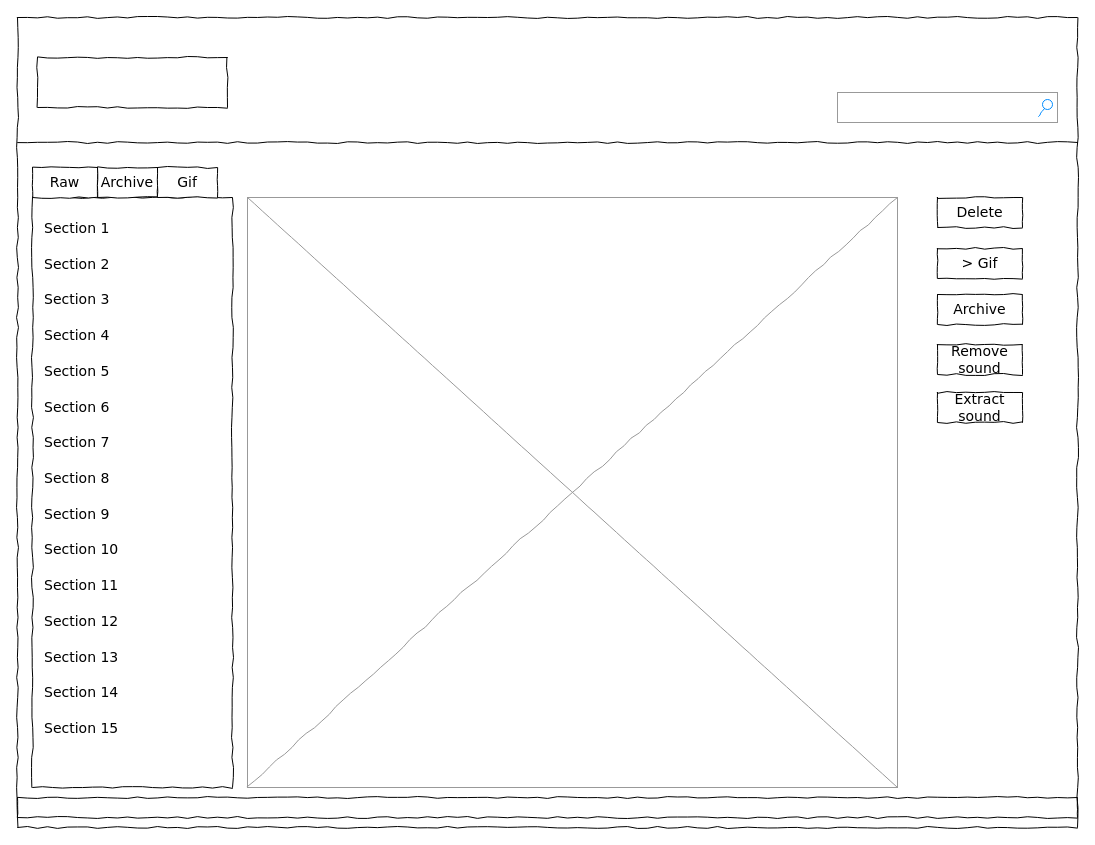
Some shapes in this 1095 by 845 pixel diagram are drawn without their labels. The shapes that lost their labels are listed below. From the top down, each one's box as (x1, y1, x2, y2) in pixels, then its label:
(36, 56, 228, 108): LOGO
(836, 92, 1058, 122): Search
